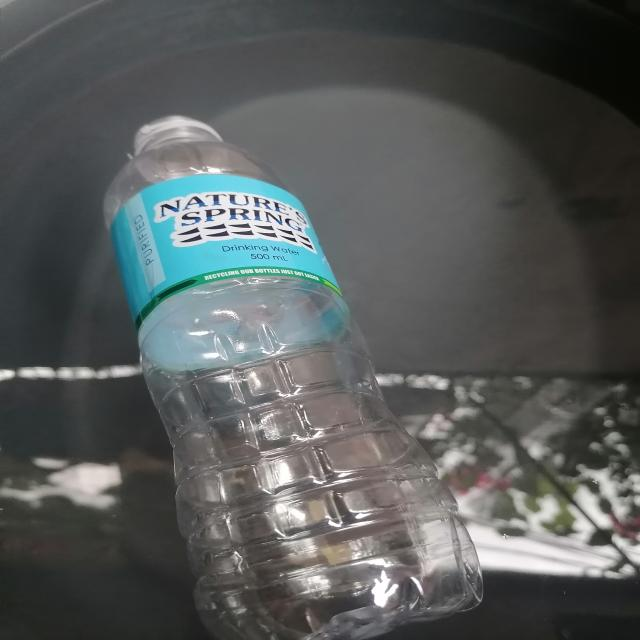Plastic Bottle: (104, 116, 482, 640)
